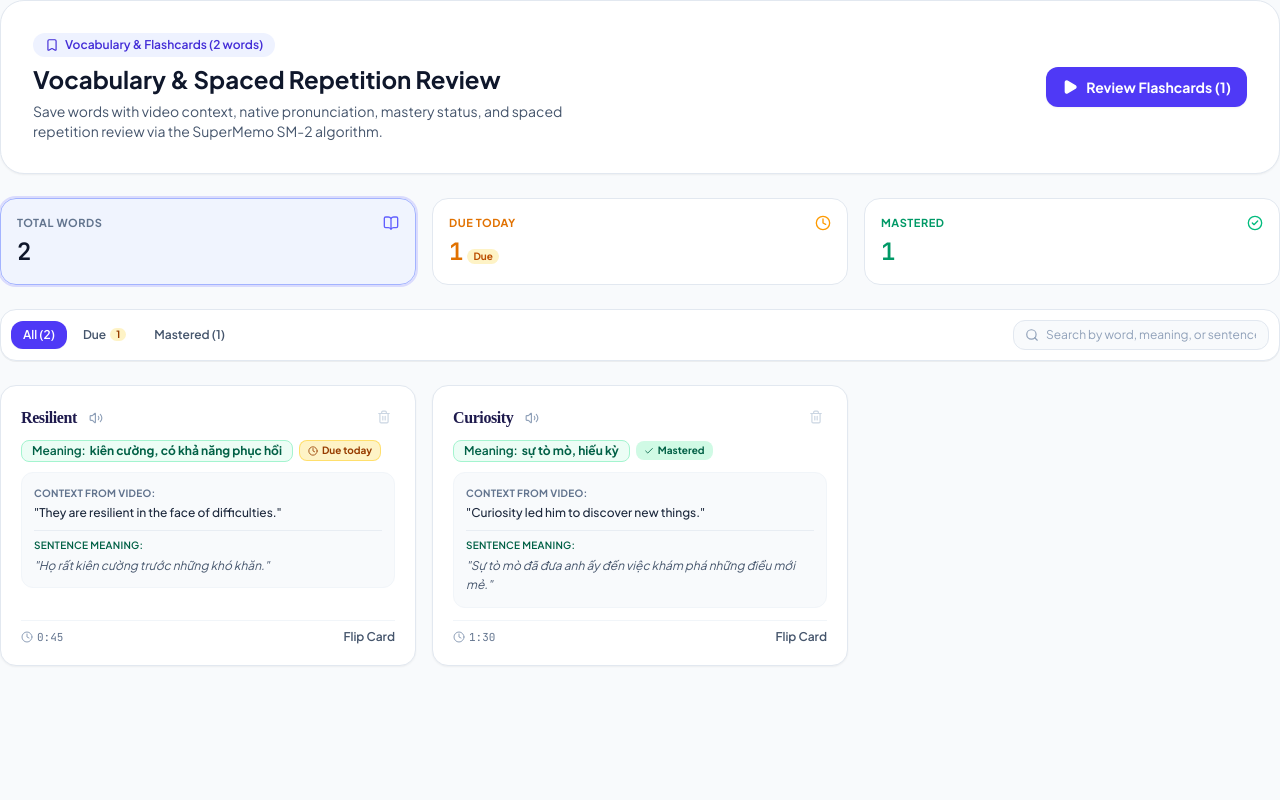
Scenario: VocabularyView & Flashcard Anki SRS Integration Tests › filters vocabulary cards by tab (All, Due, Mastered)
Expected: the heading "resilient" is shown, [21,406,77,430]
Expected: the heading "curiosity" is shown, [453,406,513,430]
// Filter by Mastered tab
Click the button "Mastered (1)" at (190, 334), box [142,320,237,348]
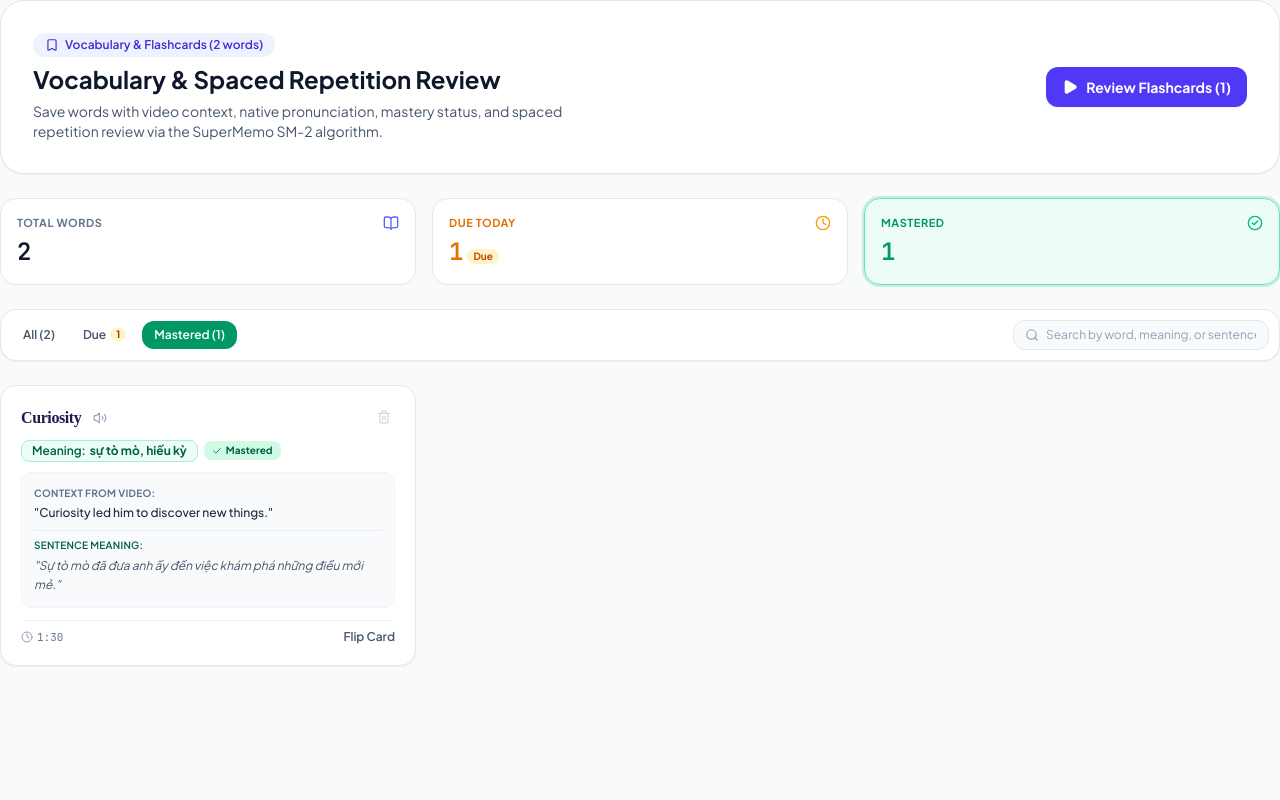
Expected: the heading "curiosity" is shown, [21,406,81,430]
Expected: the heading "resilient" is gone
// Filter by Due tab
Click the button "Due 1" at (105, 334), box [71,320,138,348]
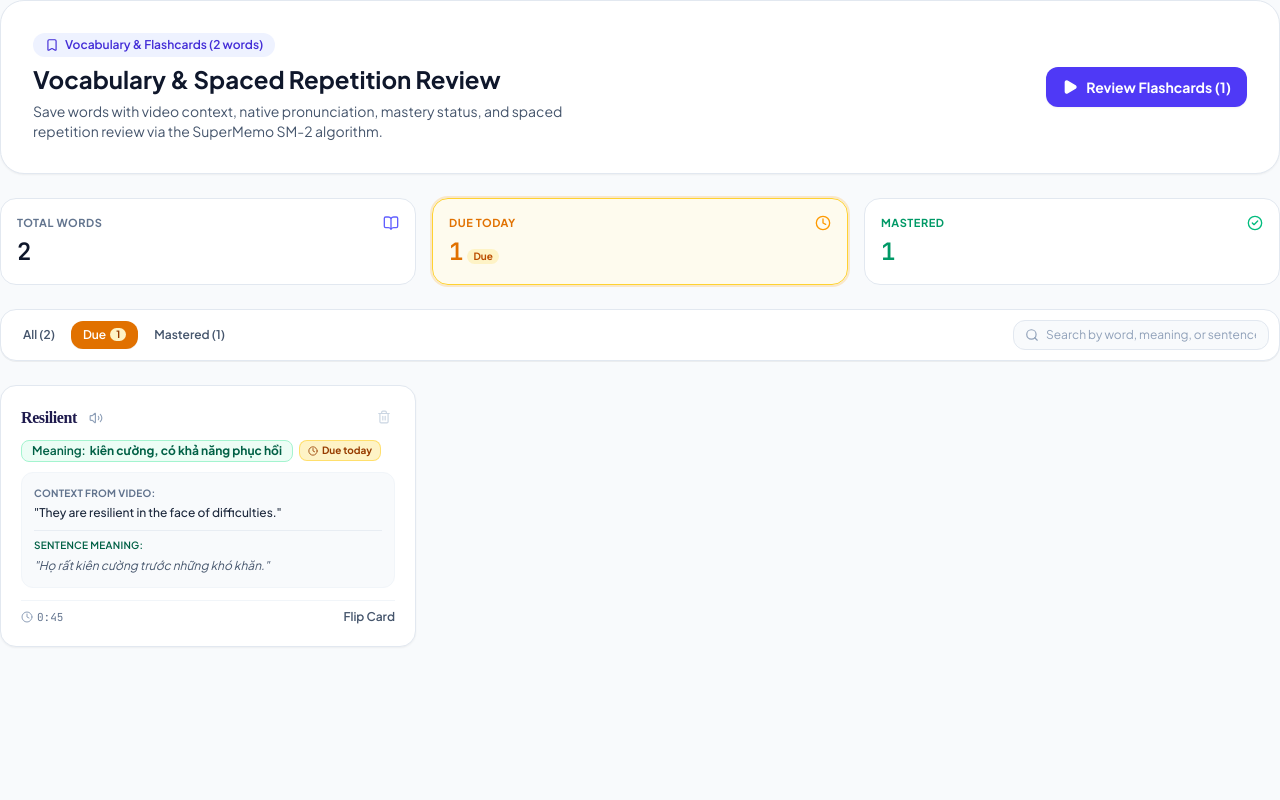
Expected: the heading "resilient" is shown, [21,406,77,430]
Expected: the heading "curiosity" is gone
